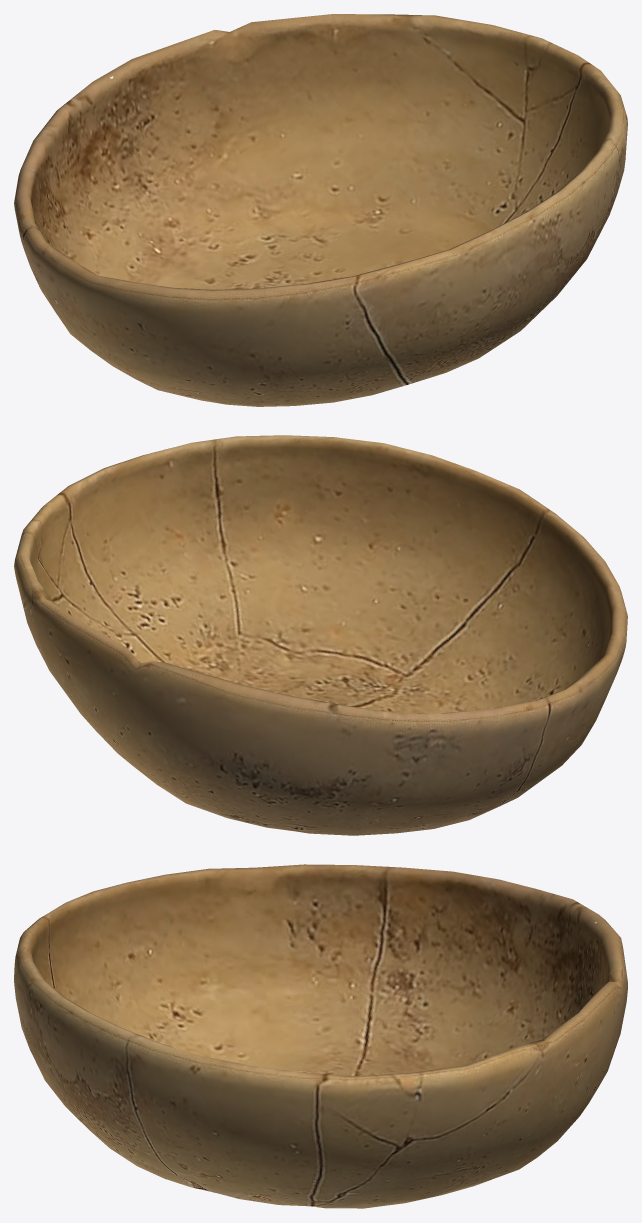
Rendered from antiquity4_45.fbx.
3 renders of one model, top to bottom at view 1: azimuth 30°, elevation 25°; view 2: azimuth 150°, elevation 25°; view 3: azimuth 270°, elevation 25°, orthographic. The views are drawn at different scales.
Parts seen in each view (by area): view 1: Low; view 2: Low; view 3: Low.
Boxes of the visible parts, box(x1,y1,x2,y2) form: Low: box(14, 14, 627, 406); Low: box(14, 435, 627, 835); Low: box(14, 864, 627, 1208).
Bounding box in the file's own units: 39.24 × 14.89 × 36.26.
1 material, 1 textured.
